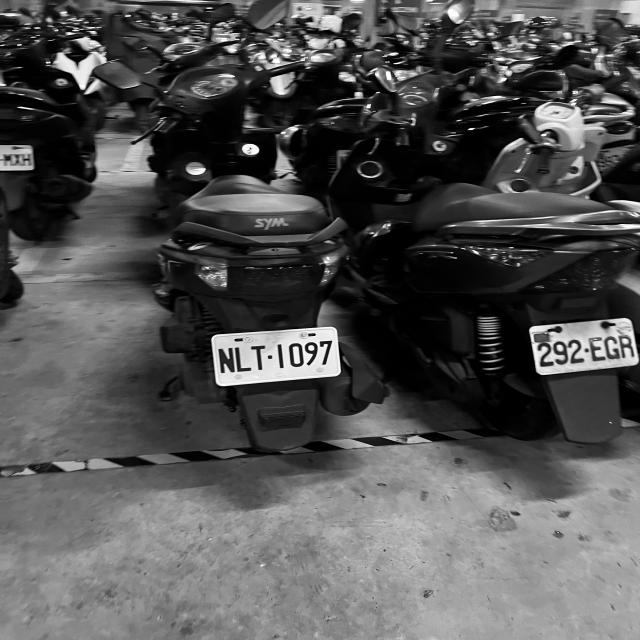-: (267, 354, 274, 360), (584, 348, 589, 354)
0: (287, 343, 305, 367)
1: (275, 342, 286, 370)
2: (534, 341, 555, 368), (566, 338, 586, 366)
7: (318, 340, 333, 365)
9: (550, 339, 570, 367), (304, 342, 318, 366)
E: (587, 336, 608, 362)
G: (604, 335, 622, 360)
H: (22, 154, 32, 166)
L: (235, 346, 252, 372)
M: (3, 154, 13, 168)
N: (220, 346, 236, 374)
R: (619, 334, 639, 358)
T: (250, 343, 266, 371)
X: (13, 154, 23, 166)
plate: (210, 332, 344, 379), (529, 317, 640, 371)
